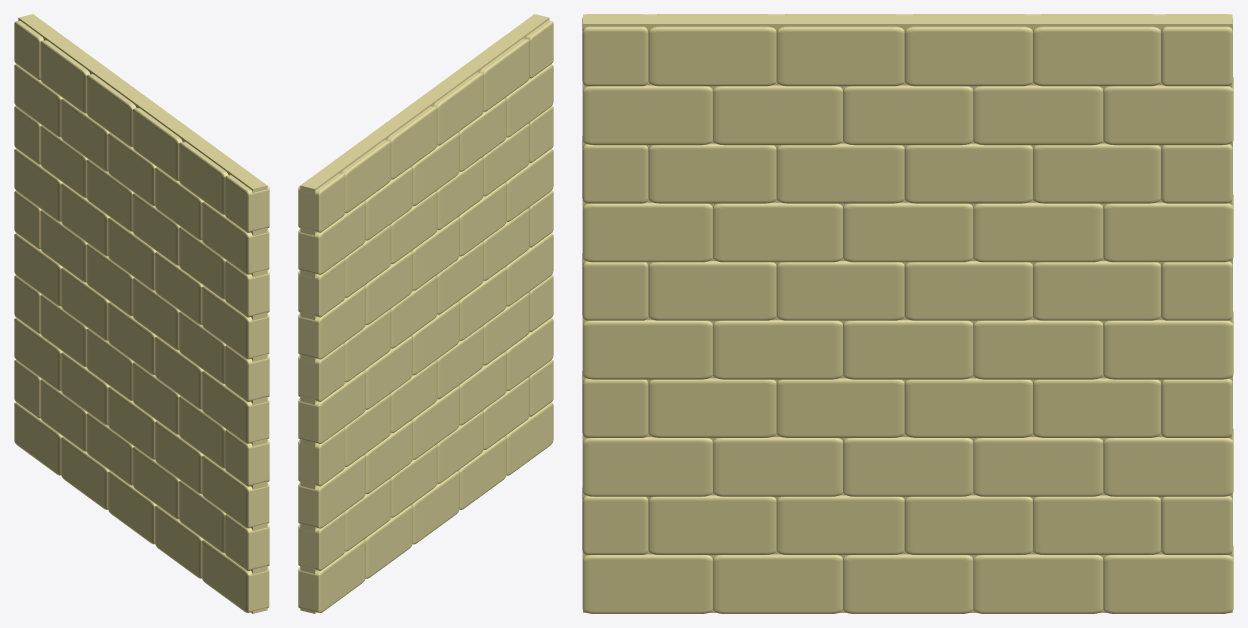
File: wall.fbx
3 views of the same model, side by side, from view 1: azimuth 30°, elevation 25°; view 2: azimuth 150°, elevation 25°; view 3: azimuth 270°, elevation 25° (orthographic). The views are drawn at different scales.
Parts seen in each view (by area): view 1: Cube.006; view 2: Cube.006; view 3: Cube.006.
Part boxes in pixels (x1,y1,x2,y2): Cube.006: (14, 14, 269, 613); Cube.006: (298, 14, 553, 613); Cube.006: (582, 14, 1233, 613).
Size of the model in its own units: 11.21 by 200 by 200.
